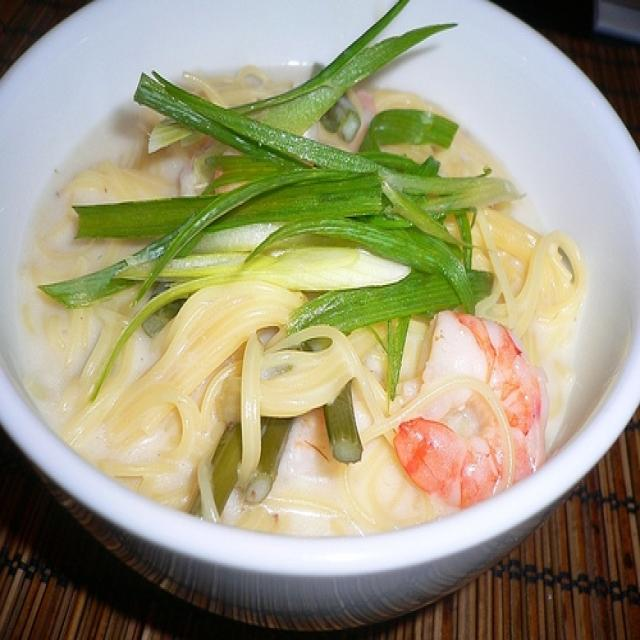汤锅炖物: (18, 49, 605, 566)
